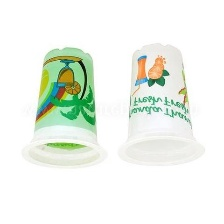glass: (115, 36, 208, 172), (20, 42, 109, 172)
